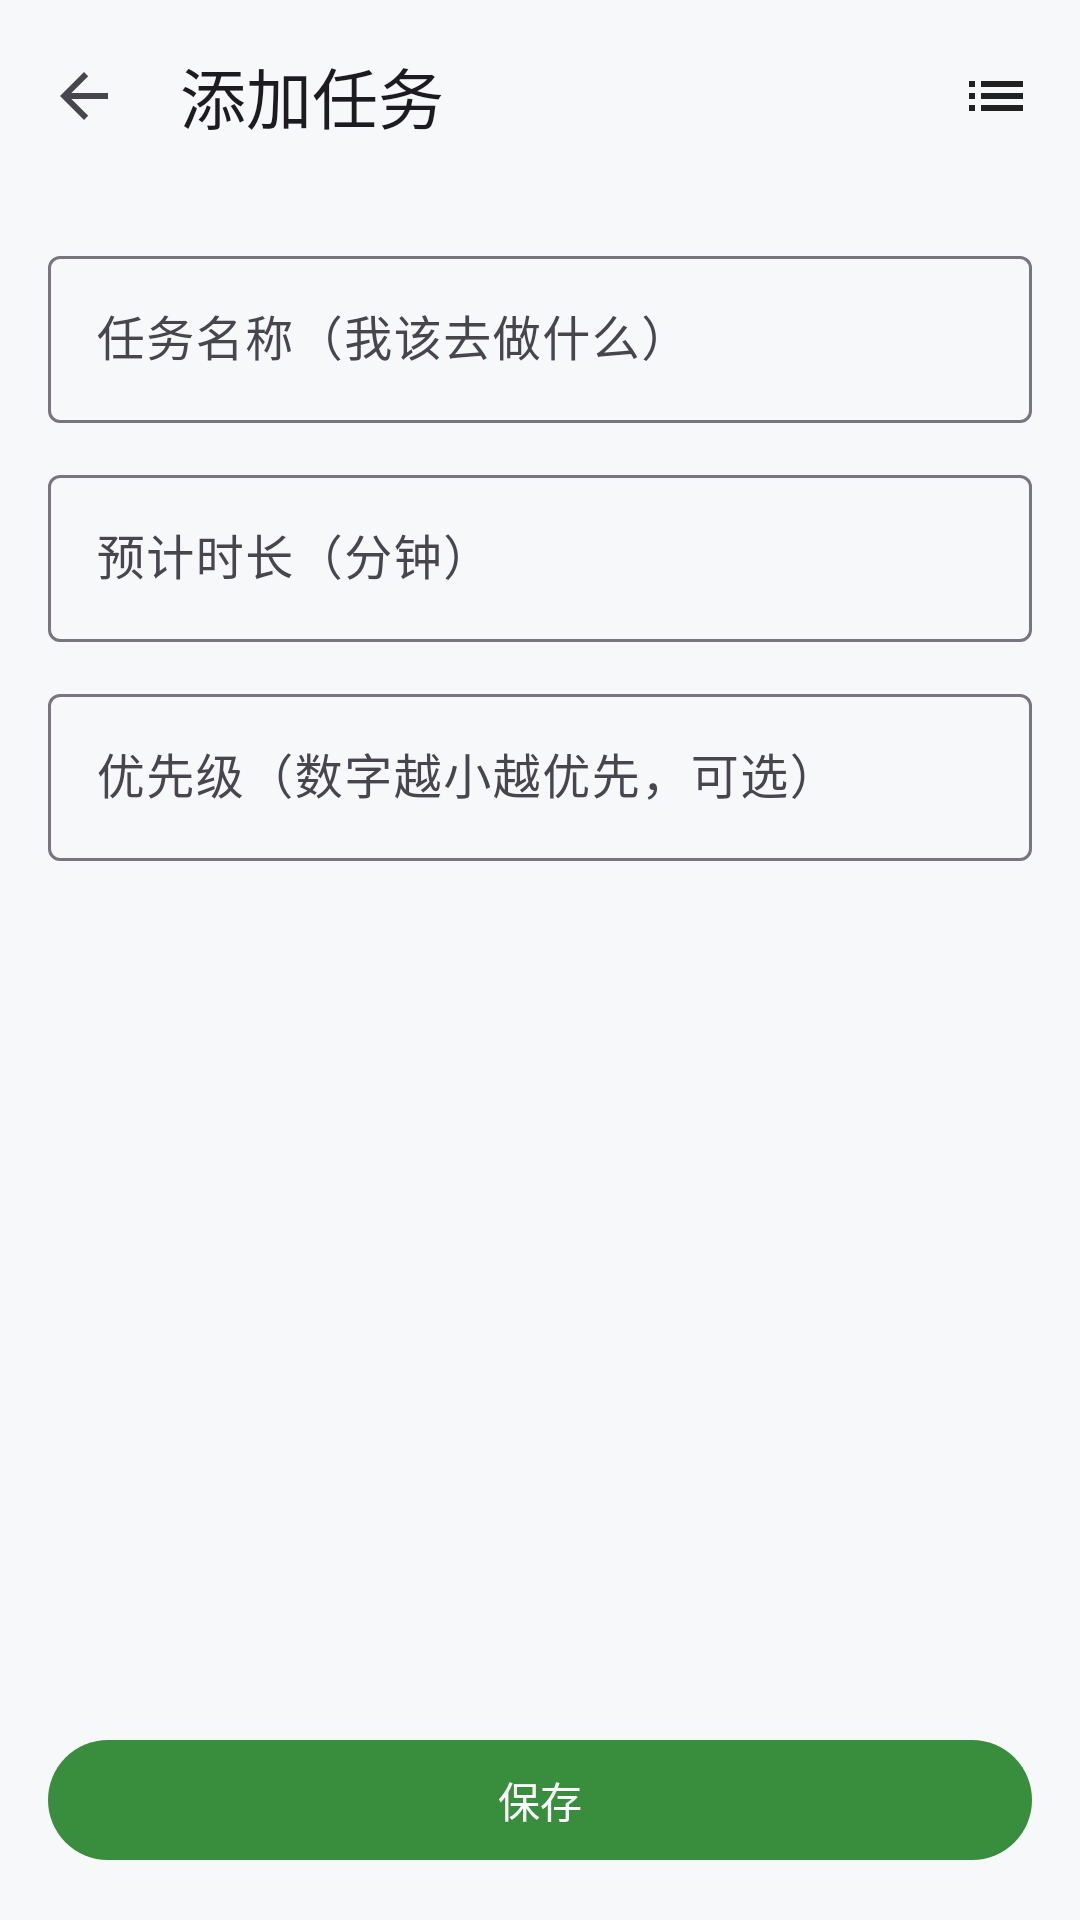

Screen size 1080w x 1920h. Icon name, then its box in pixels as (x1, y1, x2, y2):
任务清单: (969, 81, 1023, 111)
